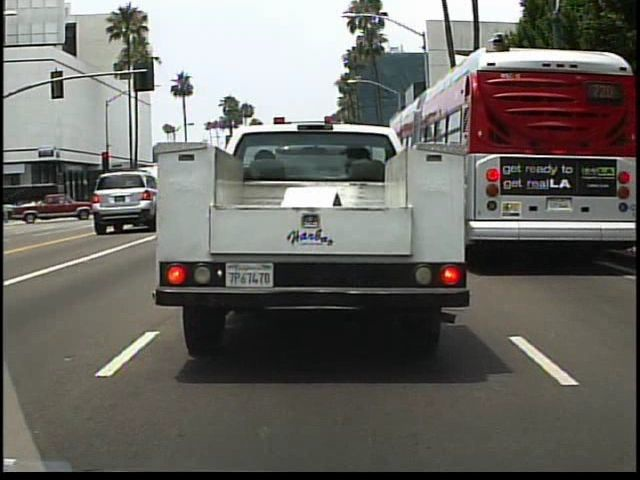person: (20, 192, 40, 226)
